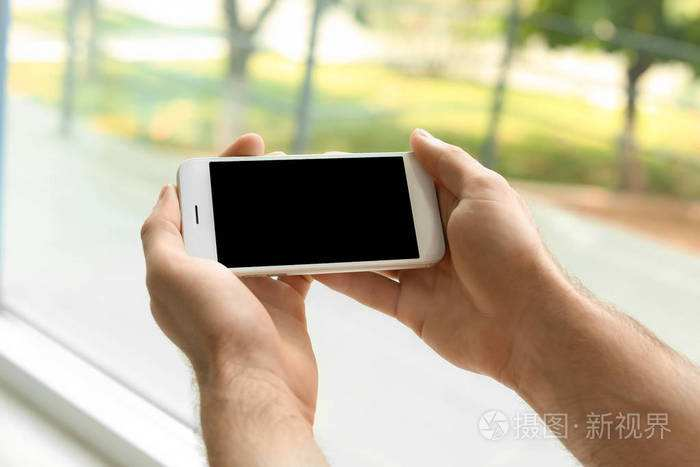phone: (131, 120, 556, 386)
